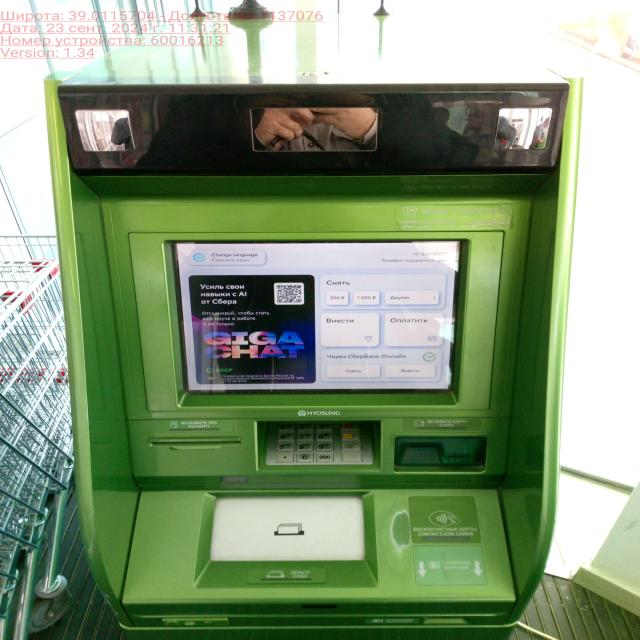bank: (45, 47, 582, 640)
